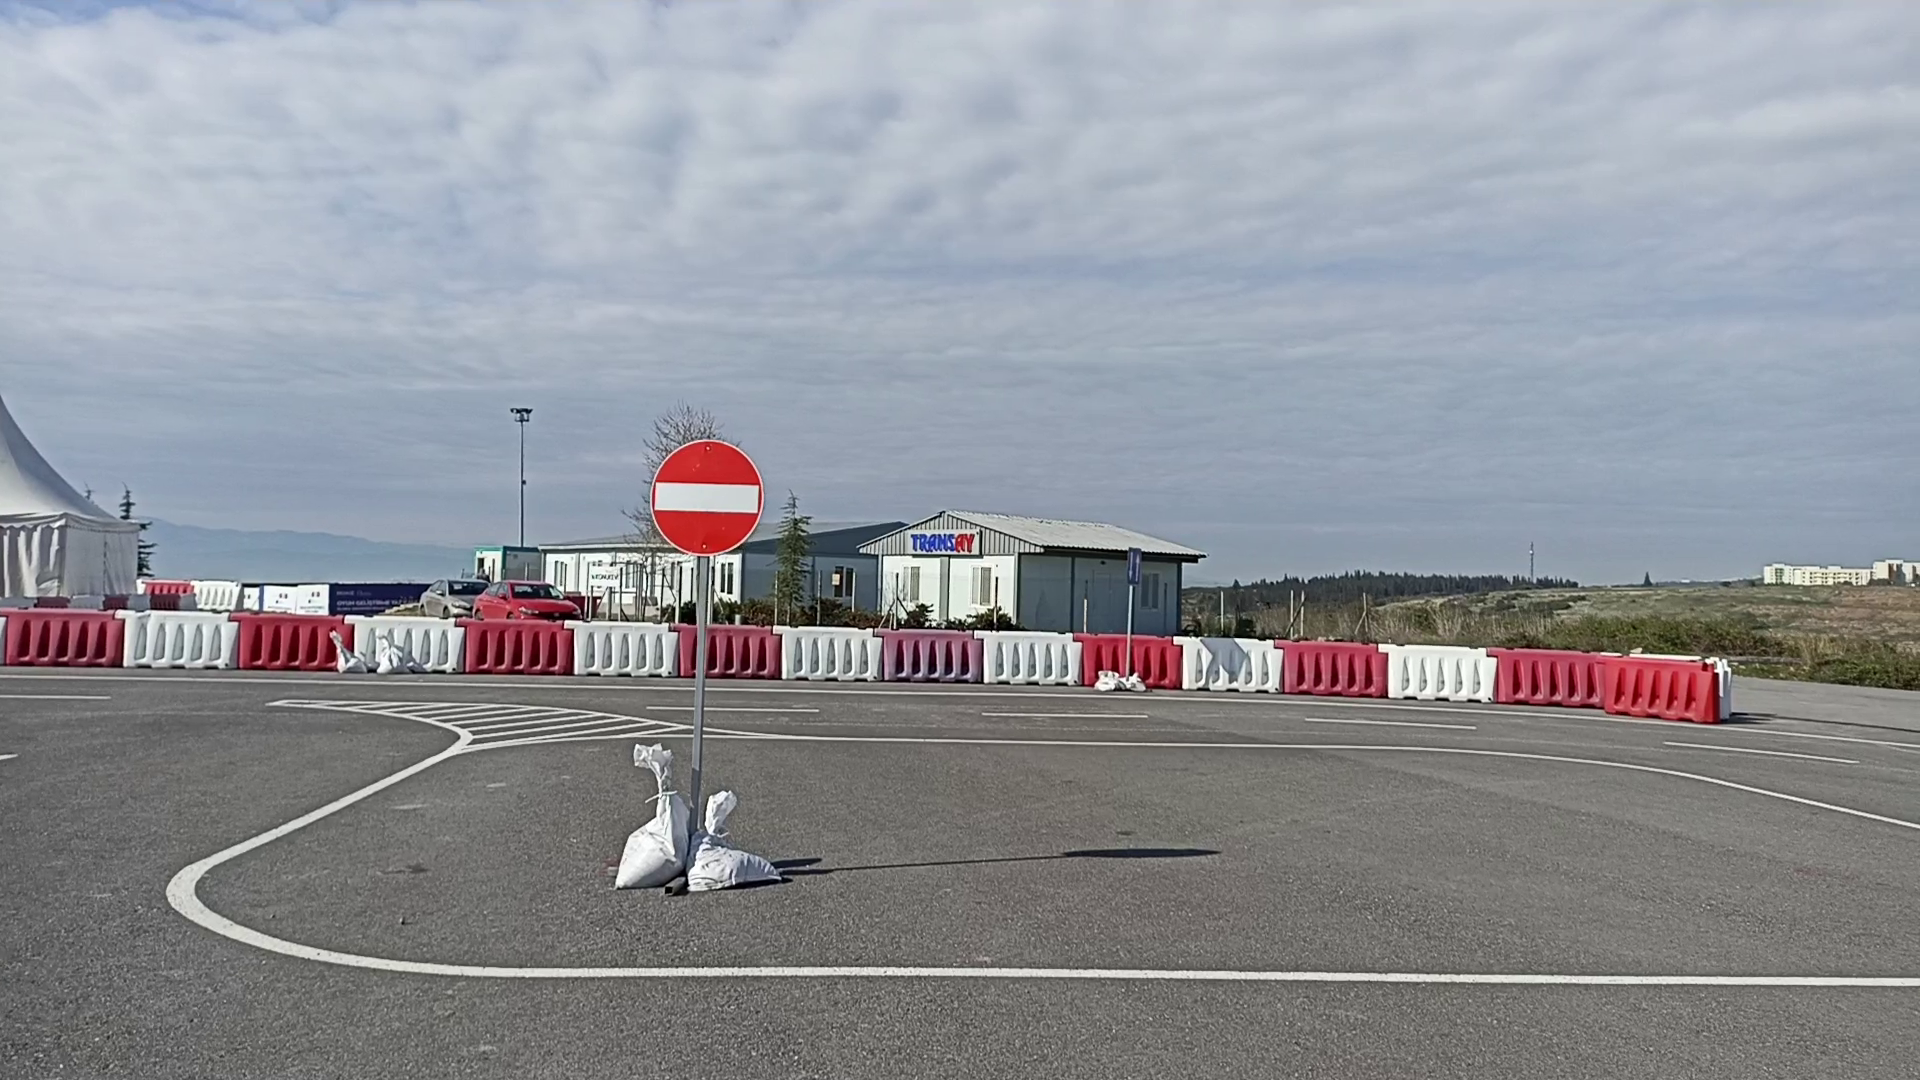noentryway: (646, 438, 767, 556)
